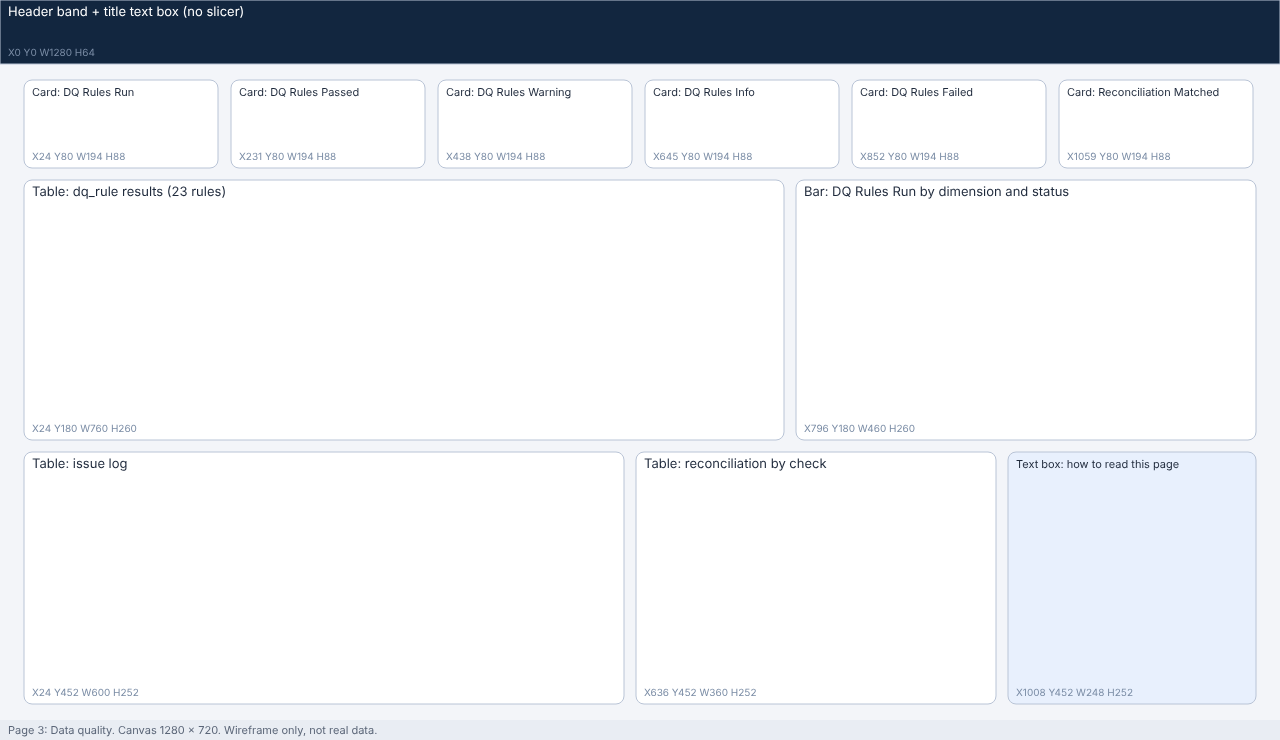

This screenshot's page, from the dashboard's own definition file:
{"tool":"powerbi","page":{"name":"Data quality","canvas":[1280,720],"ordinal":2},"visuals":[{"type":"textbox","box":[0,0,1280,64],"z":0},{"type":"cardVisual","fields":{"Data":["_Measures.DQ Rules Run"]},"box":[24,80,194,88],"z":1},{"type":"cardVisual","fields":{"Data":["_Measures.DQ Rules Passed"]},"box":[231,80,194,88],"z":2},{"type":"cardVisual","fields":{"Data":["_Measures.DQ Rules Warning"]},"box":[438,80,194,88],"z":3},{"type":"cardVisual","fields":{"Data":["_Measures.DQ Rules Info"]},"box":[645,80,194,88],"z":4},{"type":"cardVisual","fields":{"Data":["_Measures.DQ Rules Failed"]},"box":[852,80,194,88],"z":5},{"type":"cardVisual","fields":{"Data":["_Measures.Reconciliation Matched"]},"box":[1059,80,194,88],"z":6},{"type":"tableEx","title":"Results by rule","fields":{"Values":["dq_rule.rule_id","dq_rule.rule_name","dq_rule.dimension","dq_rule.severity","dq_check_result.status","dq_check_result.rows_tested","dq_check_result.rows_failed"]},"box":[24,180,760,260],"z":7},{"type":"barChart","title":"Rules run by dimension and status","fields":{"Category":["dq_rule.dimension"],"Series":["dq_check_result.status"],"Y":["_Measures.DQ Rules Run"]},"box":[796,180,460,260],"z":8},{"type":"tableEx","title":"Issue log","fields":{"Values":["dq_issue_log.issue_id","dq_issue_log.issue","Sum(dq_issue_log.rows_affected)","dq_issue_log.severity","dq_issue_log.resolution","dq_issue_log.status"]},"box":[24,452,720,252],"z":9},{"type":"tableEx","title":"Reconciliation by check","fields":{"Values":["dq_reconciliation.check_name","_Measures.Reconciliation Steps","_Measures.Reconciliation Matched"]},"box":[756,452,300,252],"z":10},{"type":"textbox","box":[1068,452,188,252],"z":11}]}

Visuals, with their boxes in screenshot pixels (x1, y1, x2, y2), scaled from the page's 1280x720 canvas onto the 1280x740 screenshot:
textbox: [x1=0, y1=0, x2=1279, y2=66]
cardVisual - _Measures.DQ Rules Run: [x1=24, y1=82, x2=218, y2=173]
cardVisual - _Measures.DQ Rules Passed: [x1=231, y1=82, x2=425, y2=173]
cardVisual - _Measures.DQ Rules Warning: [x1=438, y1=82, x2=632, y2=173]
cardVisual - _Measures.DQ Rules Info: [x1=645, y1=82, x2=839, y2=173]
cardVisual - _Measures.DQ Rules Failed: [x1=852, y1=82, x2=1046, y2=173]
cardVisual - _Measures.Reconciliation Matched: [x1=1059, y1=82, x2=1253, y2=173]
"Results by rule" tableEx: [x1=24, y1=185, x2=784, y2=452]
"Rules run by dimension and status" barChart: [x1=796, y1=185, x2=1256, y2=452]
"Issue log" tableEx: [x1=24, y1=465, x2=744, y2=724]
"Reconciliation by check" tableEx: [x1=756, y1=465, x2=1056, y2=724]
textbox: [x1=1068, y1=465, x2=1256, y2=724]
